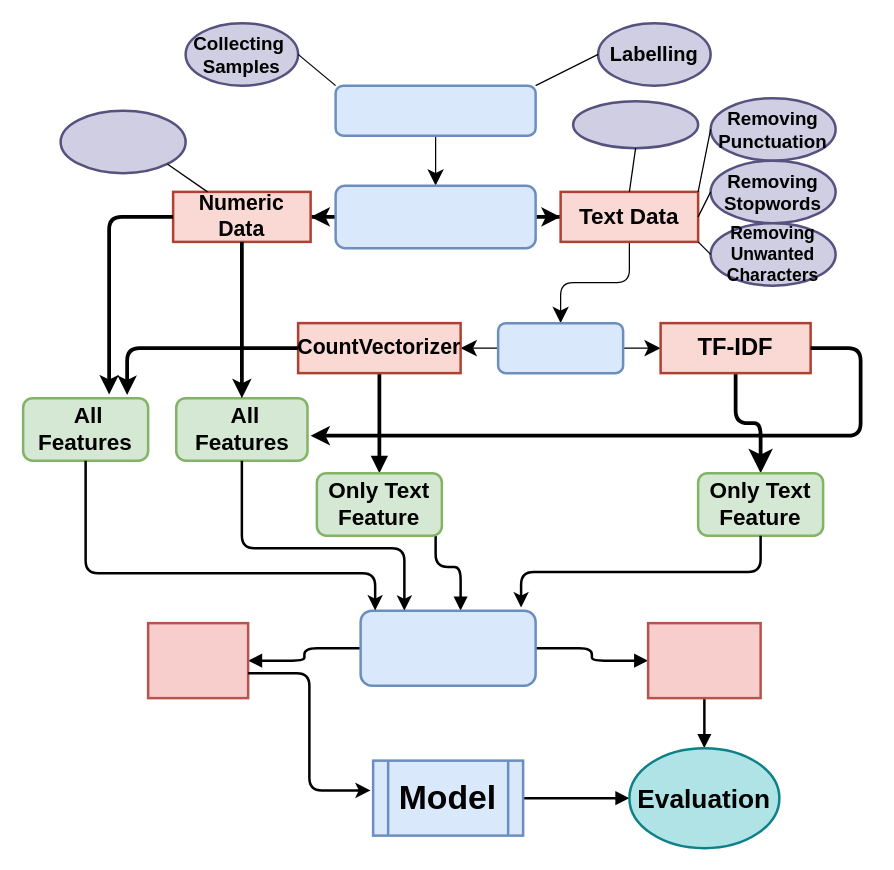
Image size: 894x870. Some labels were removed from this diagram. The centre of each missing label's shape, as x and y in pixels:
Data Preprocessing: point (435, 216)
Dataset Creation: point (435, 110)
Feature Extraction: point (560, 347)
Feature Scaling: point (122, 141)
Splitting: point (447, 647)
Test Set(=20%): point (703, 660)
Tokenization: point (635, 124)
Training Set(=80%): point (197, 660)
